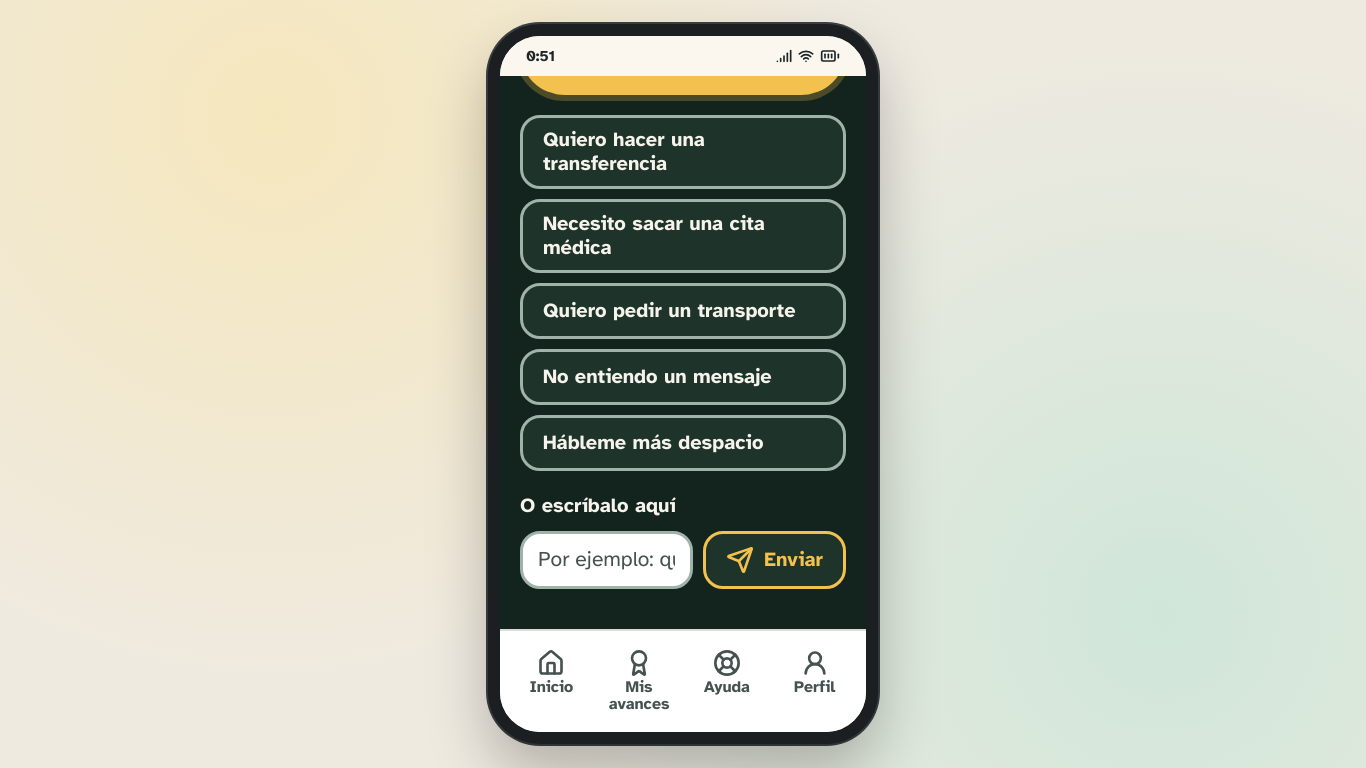
pantalla 5: copiloto sin micrófono › "No, otra cosa" vuelve a preguntar
The image size is (1366, 768).
(page scrolled)
Type "necesito un taxi" into the field labelled "O escríbalo aquí" at (607, 560), box [520,531,693,589]
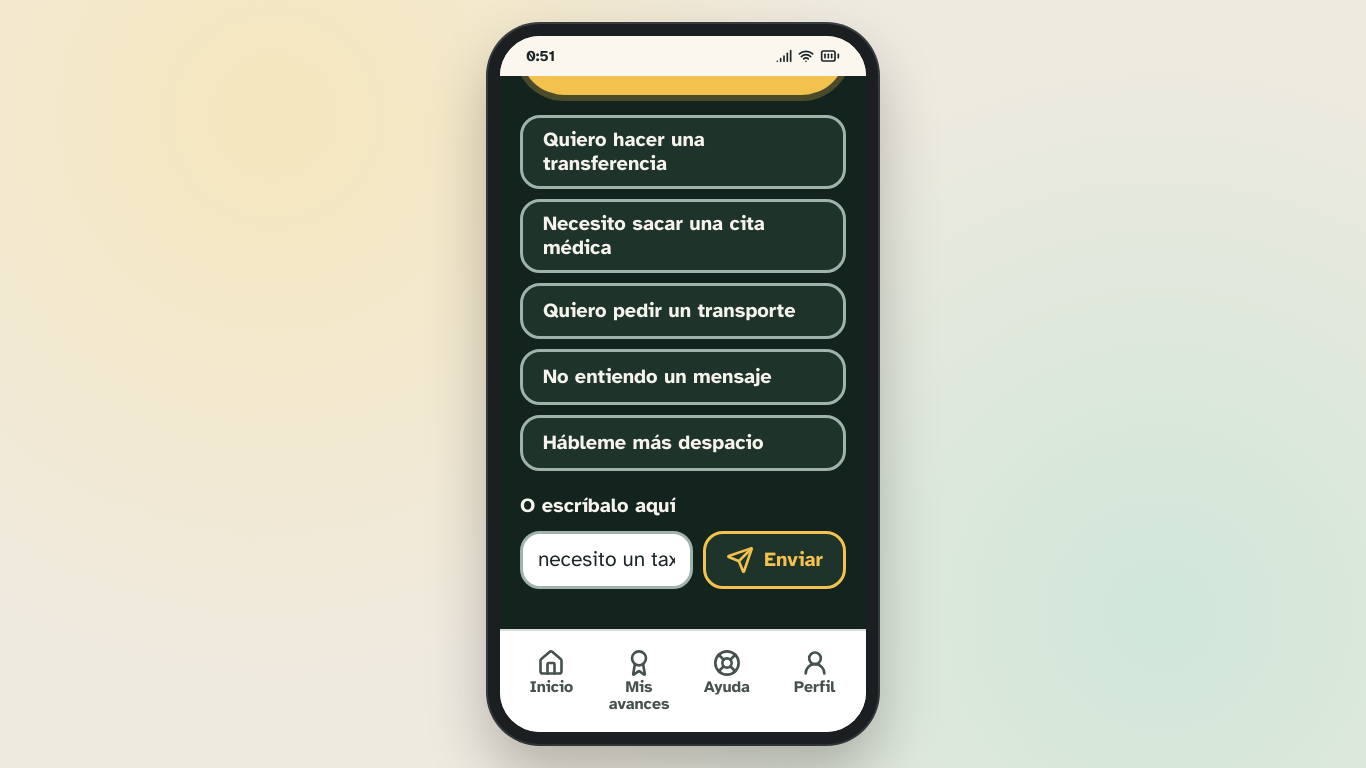
Click the button "Enviar" at (775, 560), box [703,531,846,589]
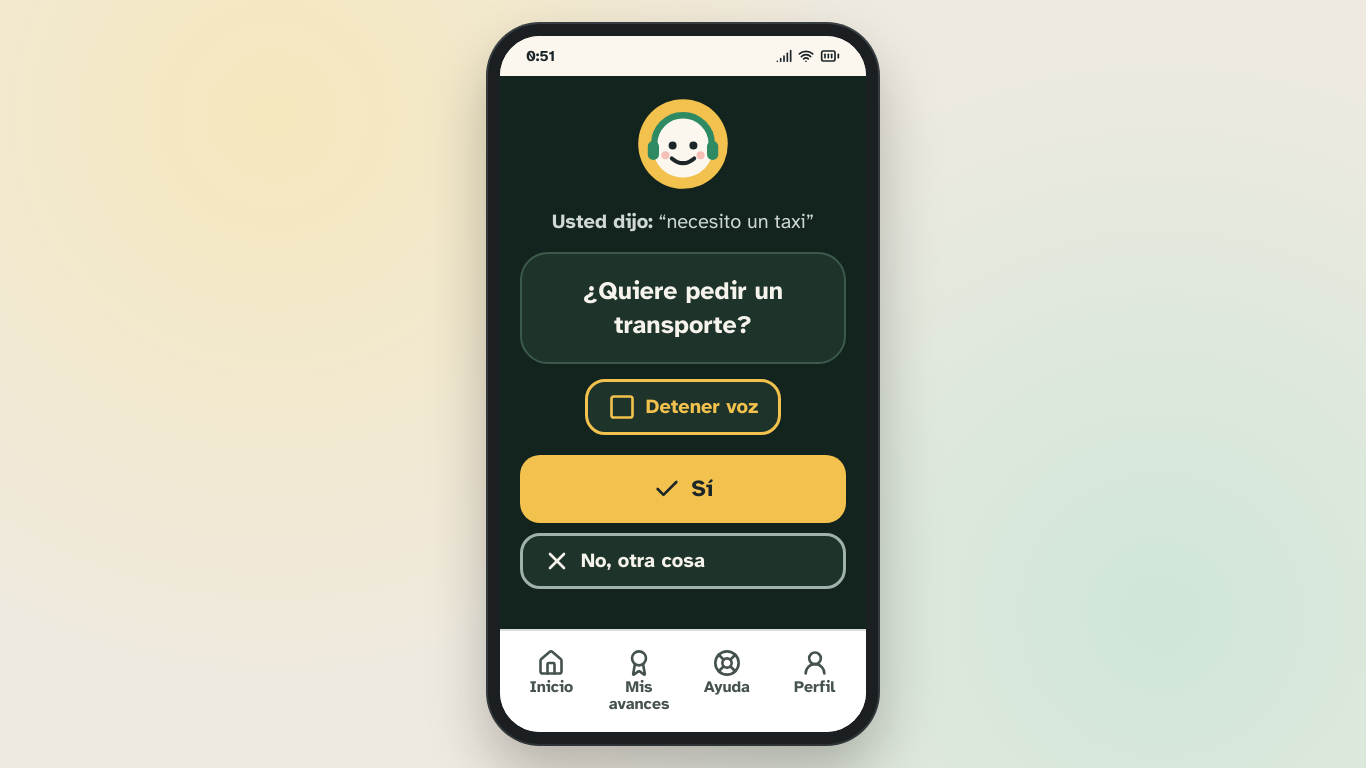
Click the button "No, otra cosa" at (683, 561), box [520,533,846,589]
(page scrolled)
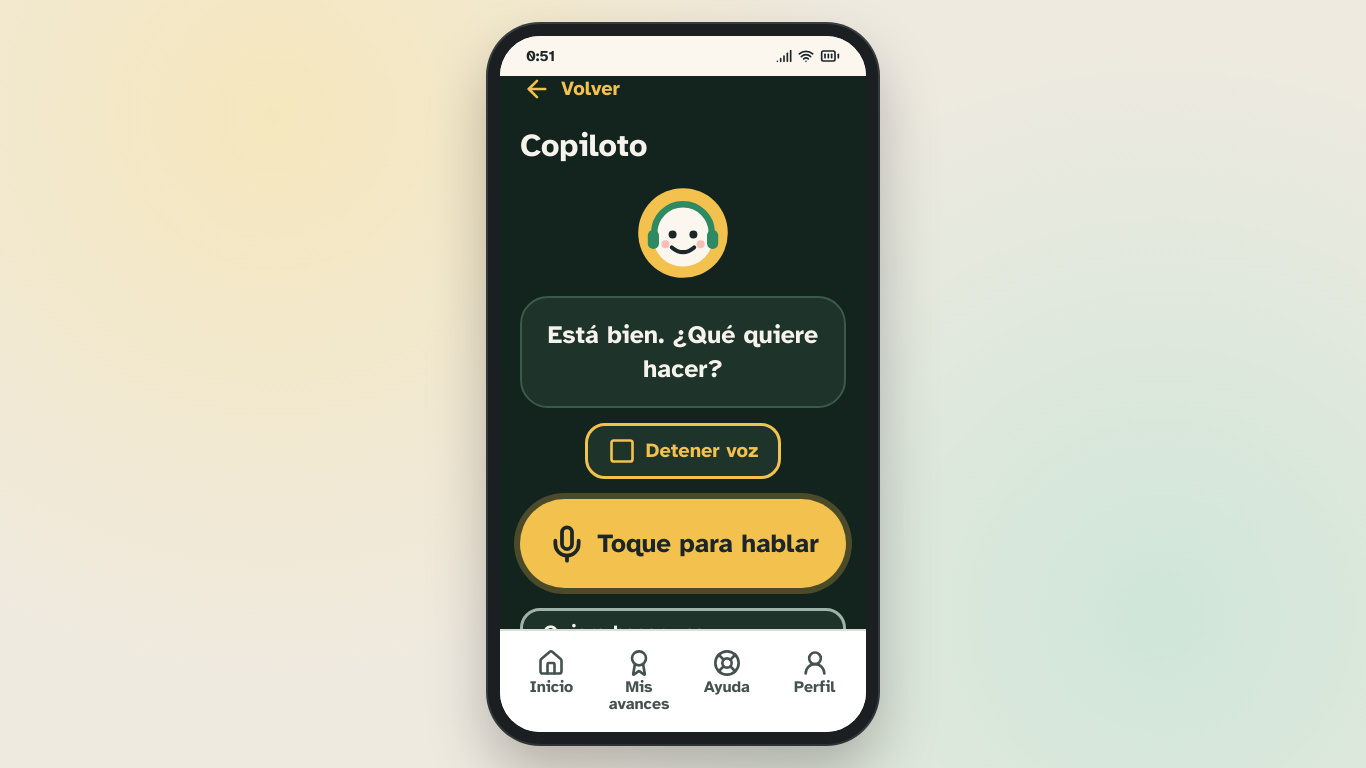
Check: the text "Está bien. ¿Qué quiere hacer?" is shown, box [520,296,846,408]
